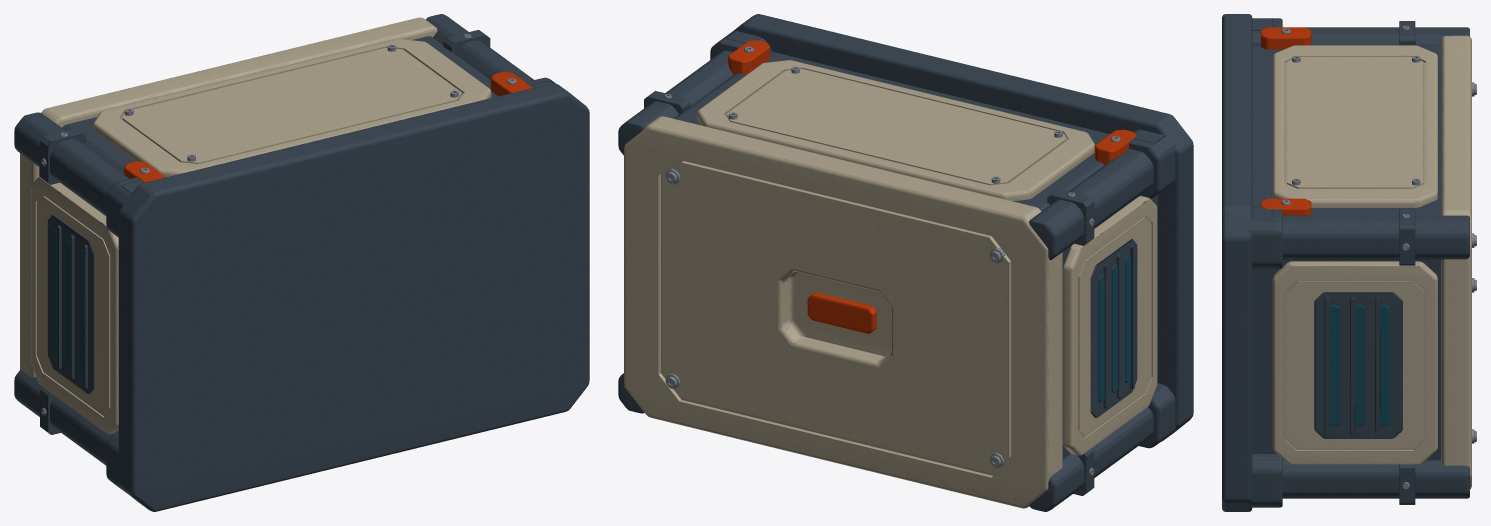
The model's file is BasicBattery.fbx.
The picture shows the model from 3 angles, left to right: view 1: azimuth 30°, elevation 25°; view 2: azimuth 150°, elevation 25°; view 3: azimuth 270°, elevation 25°; orthographic projection. The views are drawn at different scales.
Parts seen in each view (by area): view 1: base_frame, front_rear_service_cover.001, side_service_cover, roof_service_cover, corner_load_post.001, side_grille_back, corner_load_post, corner_load_post.003, sealed_battery_shell, corner_foot_guard.001, DTL_fixed_corner_sleeve.001, grille_fixed_louver.001 (+3 smaller); view 2: roof_service_cover, front_rear_service_cover.001, base_frame, side_service_cover, corner_load_post.001, sealed_battery_shell, corner_load_post, side_grille_back, corner_load_post.003, recessed_handle, corner_foot_guard.001, corner_foot_guard (+8 smaller); view 3: front_rear_service_cover.001, side_service_cover.001, base_frame, roof_service_cover, sealed_battery_shell, corner_load_post.003, side_grille_back.001, corner_load_post.002, corner_load_post.001, corner_foot_guard.003, corner_foot_guard.002, constant_cyan_grille.003 (+11 smaller).
Part boxes in pixels (left/top/right/bottom): base_frame: left=118, top=83, right=589, bottom=511; front_rear_service_cover.001: left=93, top=38, right=491, bottom=177; side_service_cover: left=31, top=176, right=118, bottom=434; roof_service_cover: left=20, top=17, right=437, bottom=377; corner_load_post.001: left=14, top=112, right=128, bottom=215; side_grille_back: left=47, top=215, right=94, bottom=394; corner_load_post: left=14, top=370, right=114, bottom=465; corner_load_post.003: left=426, top=14, right=533, bottom=81; sealed_battery_shell: left=39, top=36, right=497, bottom=176; corner_foot_guard.001: left=106, top=177, right=144, bottom=237; DTL_fixed_corner_sleeve.001: left=40, top=128, right=86, bottom=184; grille_fixed_louver.001: left=69, top=235, right=74, bottom=379; roof_service_cover: left=624, top=116, right=1062, bottom=508; front_rear_service_cover.001: left=697, top=60, right=1094, bottom=201; base_frame: left=734, top=14, right=1193, bottom=441; side_service_cover: left=1063, top=196, right=1157, bottom=455; corner_load_post.001: left=1029, top=149, right=1153, bottom=260; sealed_battery_shell: left=674, top=51, right=1157, bottom=459; corner_load_post: left=1029, top=407, right=1153, bottom=511; side_grille_back: left=1090, top=239, right=1137, bottom=417; corner_load_post.003: left=618, top=50, right=732, bottom=155; recessed_handle: left=807, top=292, right=876, bottom=333; corner_foot_guard.001: left=1129, top=129, right=1179, bottom=198; corner_foot_guard: left=1139, top=383, right=1175, bottom=448; front_rear_service_cover.001: left=1272, top=45, right=1437, bottom=207; side_service_cover.001: left=1272, top=261, right=1437, bottom=464; base_frame: left=1222, top=14, right=1252, bottom=511; roof_service_cover: left=1441, top=35, right=1471, bottom=489; sealed_battery_shell: left=1252, top=45, right=1441, bottom=460; corner_load_post.003: left=1282, top=215, right=1469, bottom=259; side_grille_back.001: left=1314, top=292, right=1402, bottom=438; corner_load_post.002: left=1282, top=460, right=1469, bottom=498; corner_load_post.001: left=1305, top=27, right=1469, bottom=45; corner_foot_guard.003: left=1239, top=206, right=1282, bottom=268; corner_foot_guard.002: left=1248, top=454, right=1282, bottom=507; constant_cyan_grille.003: left=1329, top=305, right=1339, bottom=426.
Bounding box in the file's own units: 300 × 200 × 151.
